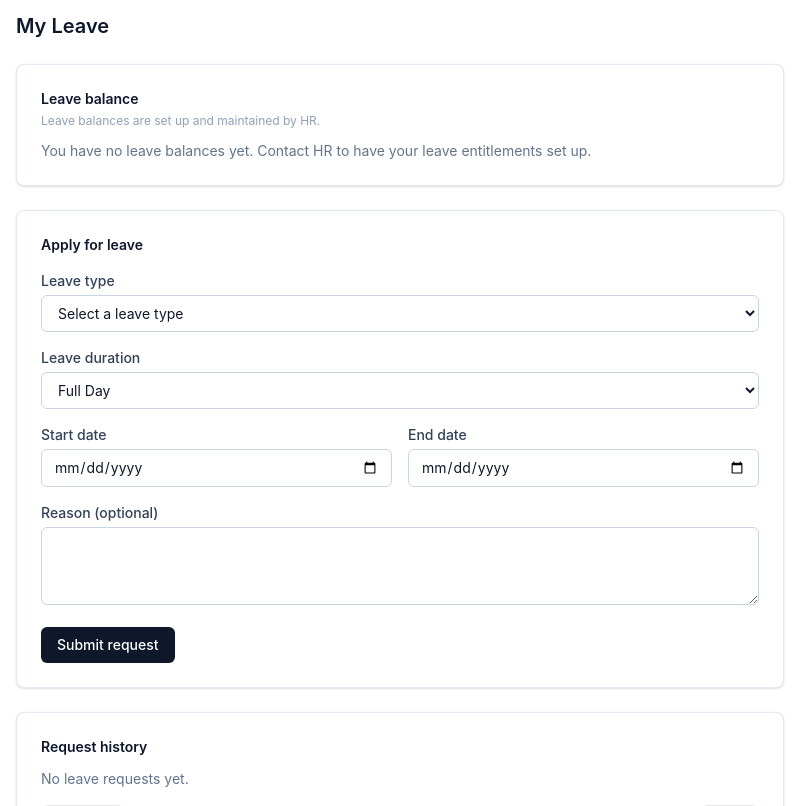
it: LeaveDashboardPage › prevents submission when the end date precedes the start date
Select "Annual Leave" in the dropdown labelled "Leave type" at {"x": 400, "y": 314}, box [41,295,759,332]
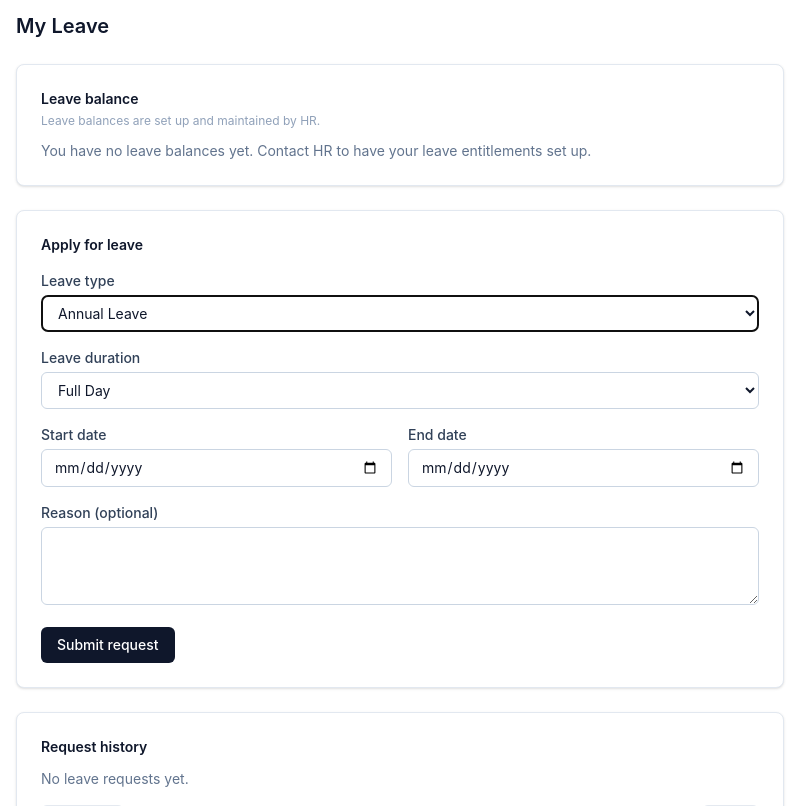
Type "2026-09-11" into the date field labelled "Start date" at {"x": 216, "y": 468}, box [41,449,392,487]
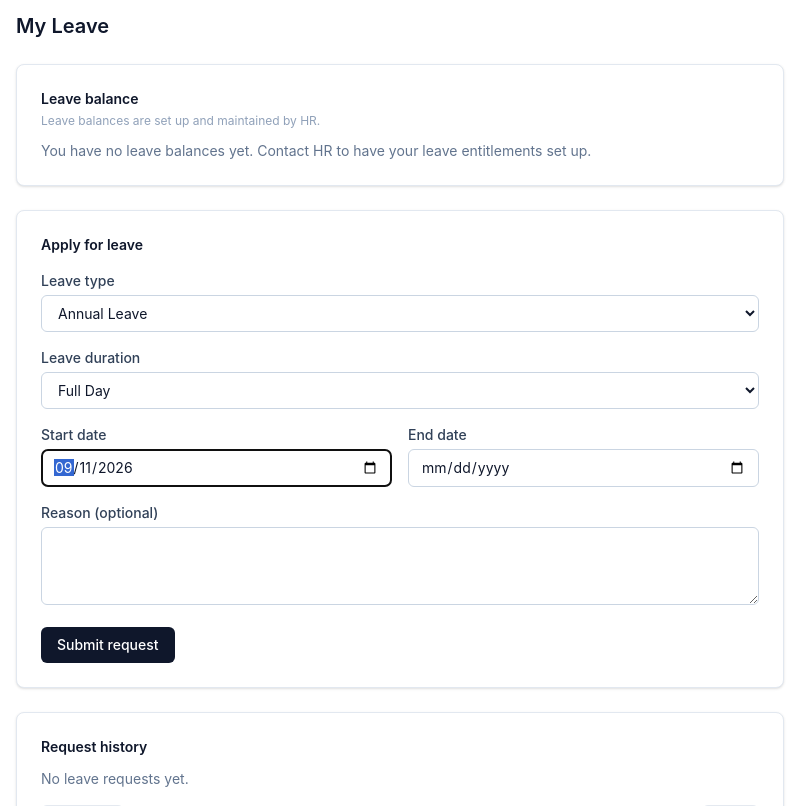
Type "2026-09-07" into the date field labelled "End date" at {"x": 584, "y": 468}, box [408,449,759,487]
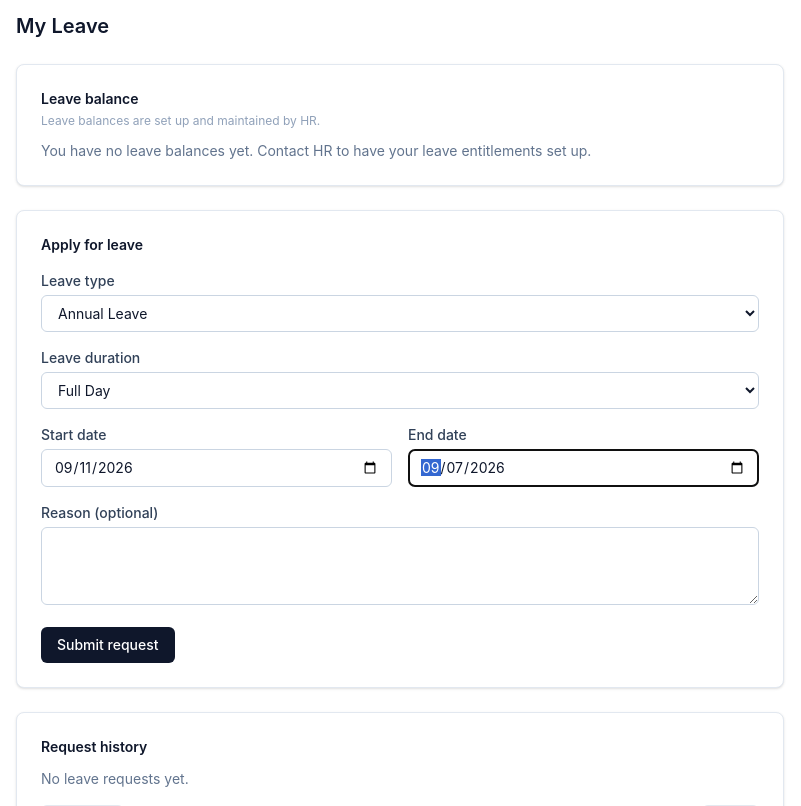
Click the button "Submit request" at {"x": 108, "y": 645}, box [41,627,175,663]
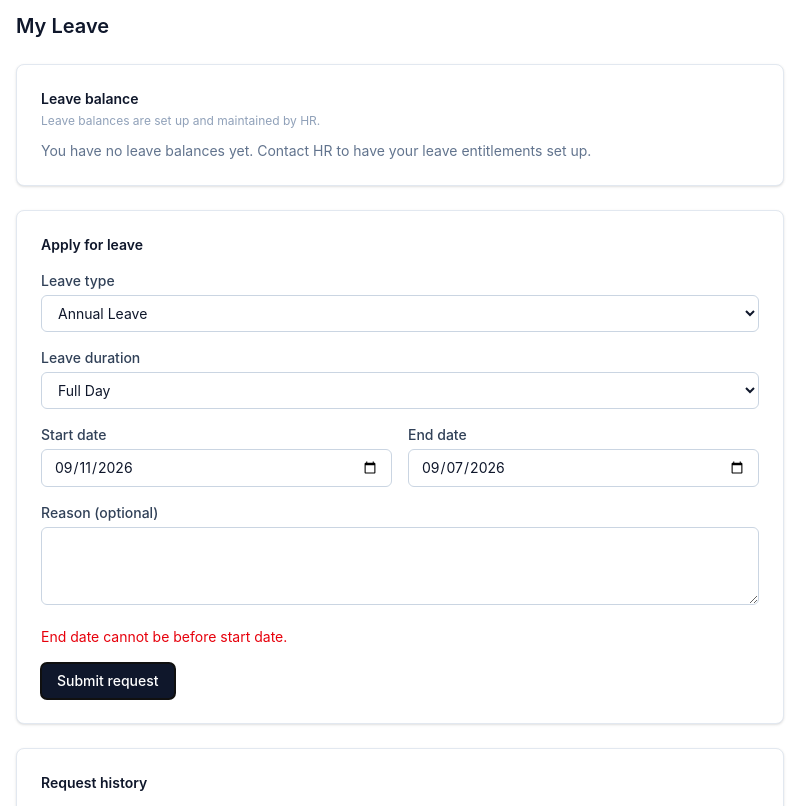
Expected: the message shows "End date", [41,628,287,645]
